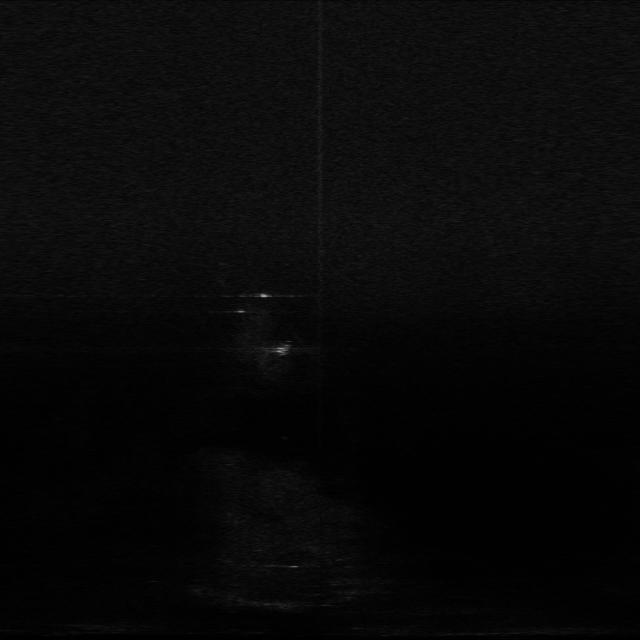rov: (270, 343, 294, 356)
